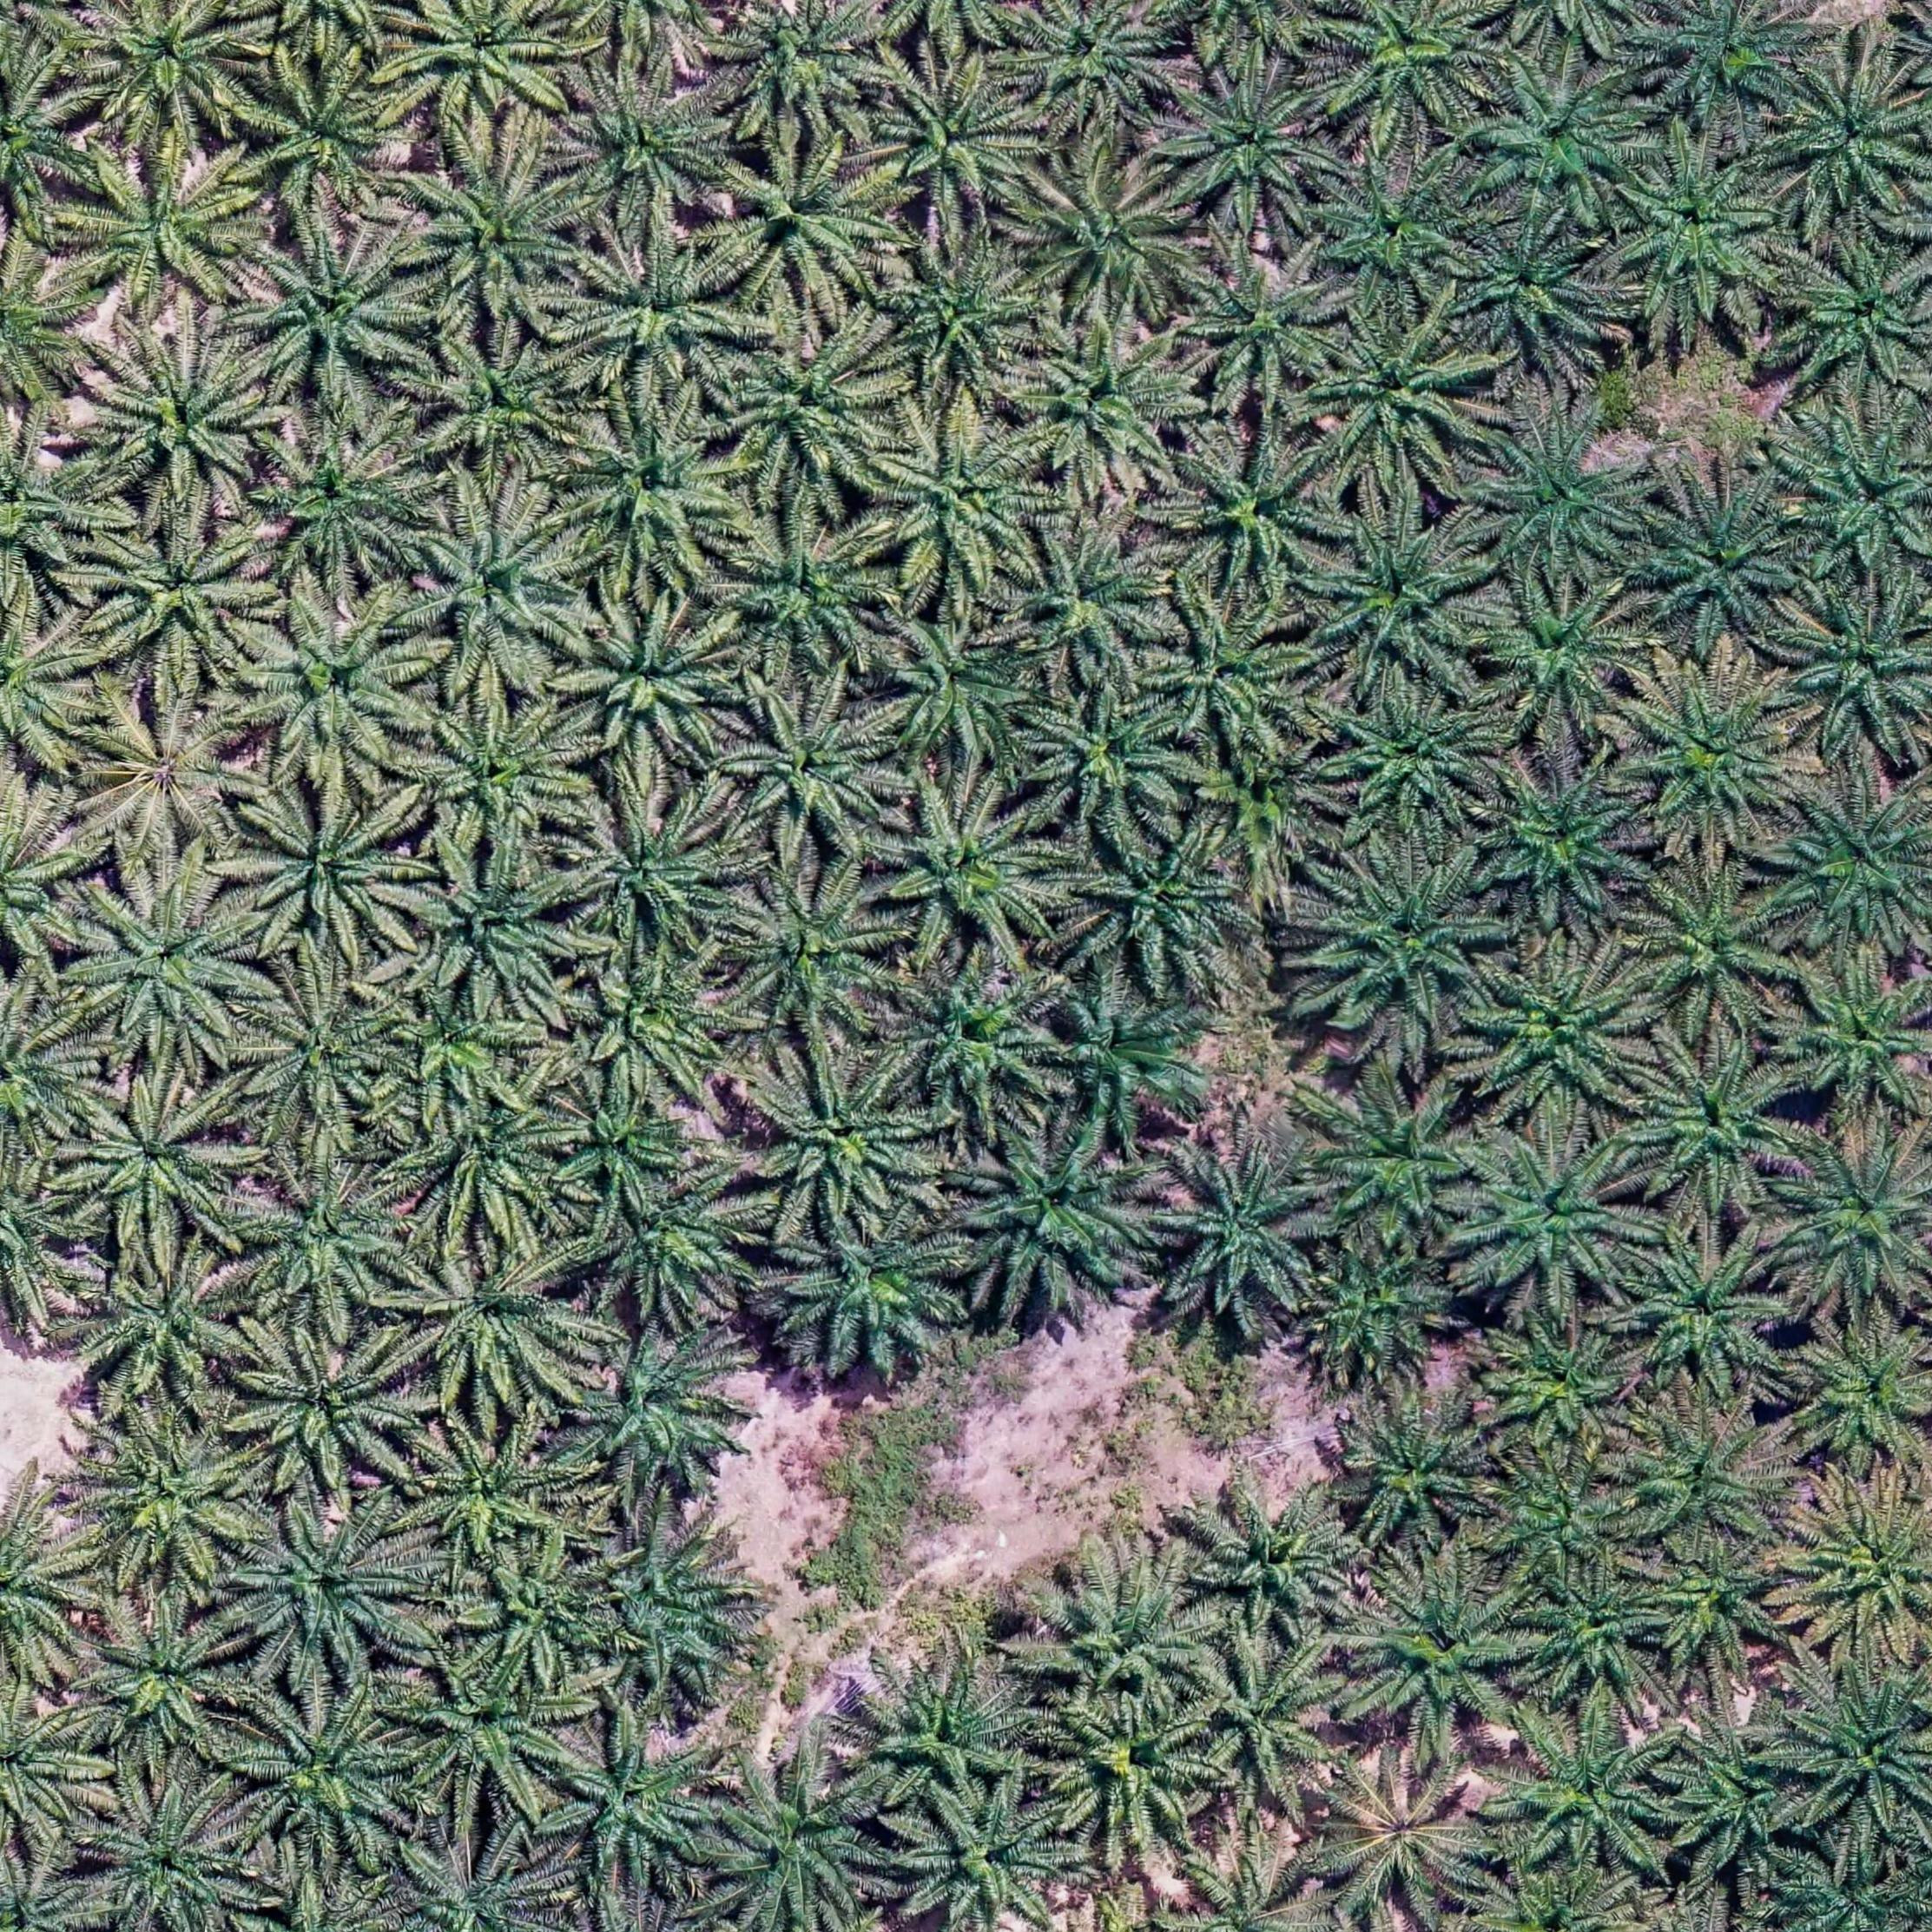palmtree: (936, 1102, 1168, 1323), (1330, 1550, 1536, 1746), (1295, 846, 1506, 1035), (1141, 1129, 1339, 1320), (395, 133, 593, 322), (234, 587, 430, 775), (232, 219, 430, 405), (1008, 1548, 1221, 1721), (554, 402, 747, 587), (83, 327, 280, 510), (741, 1046, 936, 1228), (58, 138, 257, 317), (766, 1203, 968, 1378), (1300, 501, 1490, 686), (584, 1516, 763, 1713), (402, 487, 591, 671), (870, 775, 1062, 955), (1470, 945, 1658, 1127), (1065, 812, 1258, 989), (711, 131, 904, 308), (1456, 1129, 1651, 1304), (704, 1752, 899, 1927), (64, 874, 253, 1053), (78, 688, 257, 878), (1180, 1626, 1361, 1812), (1035, 1688, 1228, 1861), (232, 48, 418, 226), (543, 1711, 729, 1886), (552, 57, 736, 232), (722, 317, 906, 492), (559, 230, 748, 400), (1005, 322, 1194, 492), (867, 410, 1046, 589), (87, 510, 278, 676), (1030, 977, 1221, 1143), (398, 1642, 589, 1808), (851, 1649, 1042, 1815), (1474, 407, 1654, 582), (400, 1231, 589, 1398), (1306, 311, 1484, 487), (724, 863, 906, 1035), (1182, 1470, 1366, 1640), (570, 1323, 750, 1495), (1306, 1074, 1486, 1246), (881, 955, 1067, 1122), (1014, 147, 1194, 317), (559, 780, 741, 948), (246, 419, 430, 586), (405, 846, 589, 1012), (883, 1771, 1076, 1928), (557, 587, 736, 757), (235, 1323, 416, 1491), (232, 1500, 416, 1665), (407, 686, 593, 849), (1491, 1711, 1677, 1874), (556, 950, 741, 1113), (863, 51, 1040, 221), (81, 1412, 260, 1580), (62, 1077, 241, 1244), (237, 784, 418, 948), (1472, 757, 1652, 922), (718, 499, 897, 663), (1162, 430, 1343, 593), (1626, 1035, 1801, 1201), (1290, 1230, 1468, 1392), (1617, 1223, 1792, 1387), (1622, 671, 1798, 835), (724, 683, 901, 846), (1316, 1752, 1493, 1914), (1775, 1125, 1932, 1307), (1612, 142, 1785, 306), (239, 1693, 414, 1854), (1162, 53, 1334, 214), (872, 235, 1044, 395), (1325, 1391, 1499, 1548), (1003, 515, 1177, 671), (80, 1242, 255, 1396), (65, 0, 260, 138), (872, 602, 1042, 759), (419, 326, 589, 483), (1139, 591, 1309, 748), (1477, 575, 1649, 731), (1016, 681, 1191, 833), (1617, 1405, 1792, 1557), (80, 1596, 244, 1757), (1631, 865, 1798, 1024), (1322, 683, 1500, 830), (589, 1168, 759, 1322), (391, 0, 584, 134), (1637, 483, 1803, 639), (239, 1164, 410, 1315), (1778, 782, 1932, 948), (1782, 1483, 1932, 1652), (1481, 58, 1649, 209), (1477, 1311, 1647, 1460), (715, 0, 897, 136), (1182, 249, 1346, 398), (81, 1776, 246, 1925), (1773, 53, 1927, 211), (1783, 579, 1932, 741), (1658, 1718, 1810, 1875), (1782, 957, 1932, 1113), (1787, 1665, 1932, 1824), (1789, 1315, 1932, 1474), (1320, 0, 1497, 127), (547, 1077, 701, 1223), (1325, 149, 1479, 294), (1637, 1534, 1796, 1674), (458, 1545, 619, 1683), (1516, 1560, 1670, 1702), (410, 1419, 564, 1560), (1790, 423, 1932, 577), (1007, 0, 1180, 126), (1785, 239, 1932, 386), (1451, 221, 1603, 359), (1481, 1453, 1640, 1583), (246, 984, 393, 1123), (0, 1686, 119, 1852), (379, 989, 524, 1118), (1645, 0, 1805, 113), (389, 1826, 556, 1932), (1203, 748, 1316, 840)
